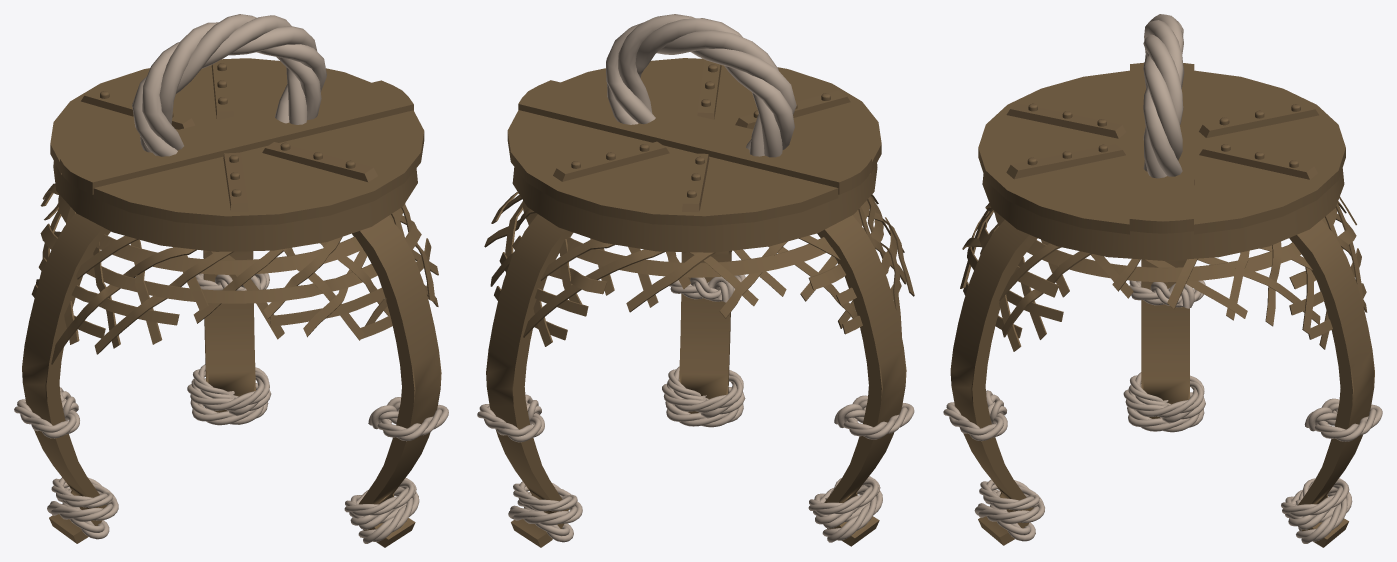
The model's file is BasketPavillion.glb.
3 views of the same model, side by side, from view 1: azimuth 30°, elevation 25°; view 2: azimuth 150°, elevation 25°; view 3: azimuth 270°, elevation 25° (orthographic).
Parts seen in each view (by area): view 1: Basket, L_Lid, R_LId; view 2: Basket, R_LId, L_Lid; view 3: Basket, R_LId, L_Lid.
Boxes of the visible parts, x1=… form: Basket: x1=14, y1=14, x2=448, y2=547; L_Lid: x1=93, y1=110, x2=424, y2=226; R_LId: x1=50, y1=58, x2=370, y2=174; Basket: x1=477, y1=14, x2=914, y2=547; R_LId: x1=507, y1=110, x2=838, y2=226; L_Lid: x1=561, y1=58, x2=881, y2=174; Basket: x1=943, y1=14, x2=1382, y2=547; R_LId: x1=1194, y1=70, x2=1345, y2=234; L_Lid: x1=978, y1=70, x2=1129, y2=234.
Bounding box in the file's own units: 16.24 × 19.81 × 16.7.
